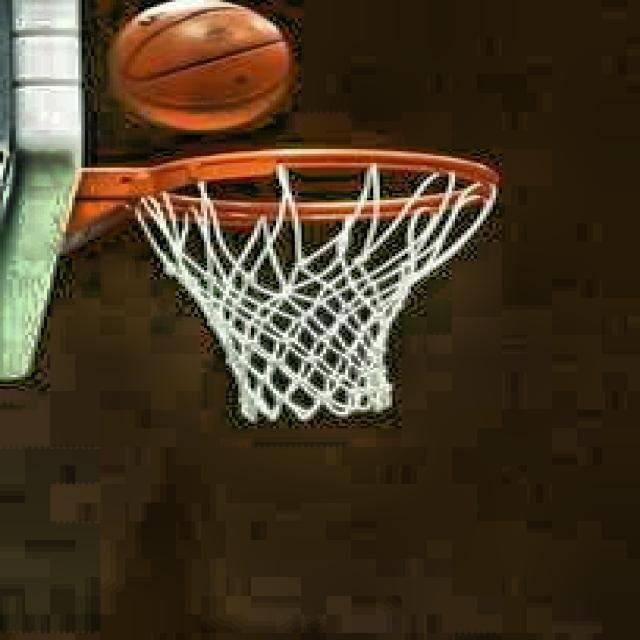board: (115, 0, 290, 133)
rim: (137, 150, 500, 425)
